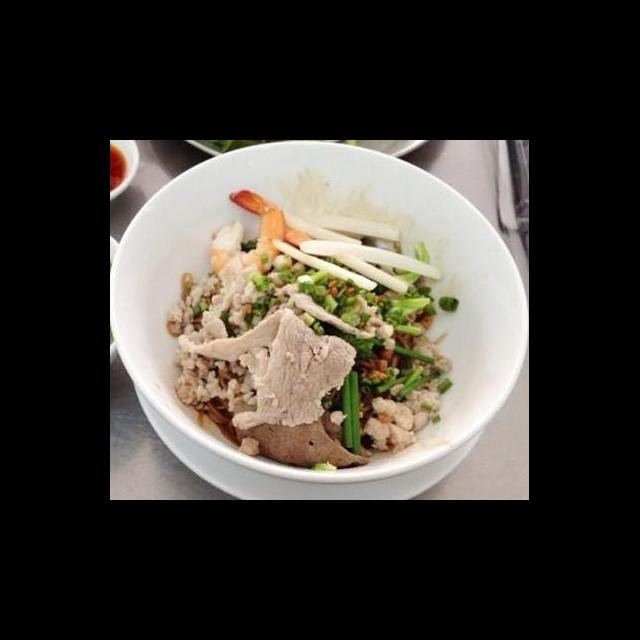gan: (230, 377, 374, 471)
thit bam: (358, 333, 456, 454), (167, 272, 270, 339), (168, 343, 266, 412), (346, 292, 402, 356)
thit heo: (173, 305, 360, 432)
tom: (206, 186, 290, 281)
